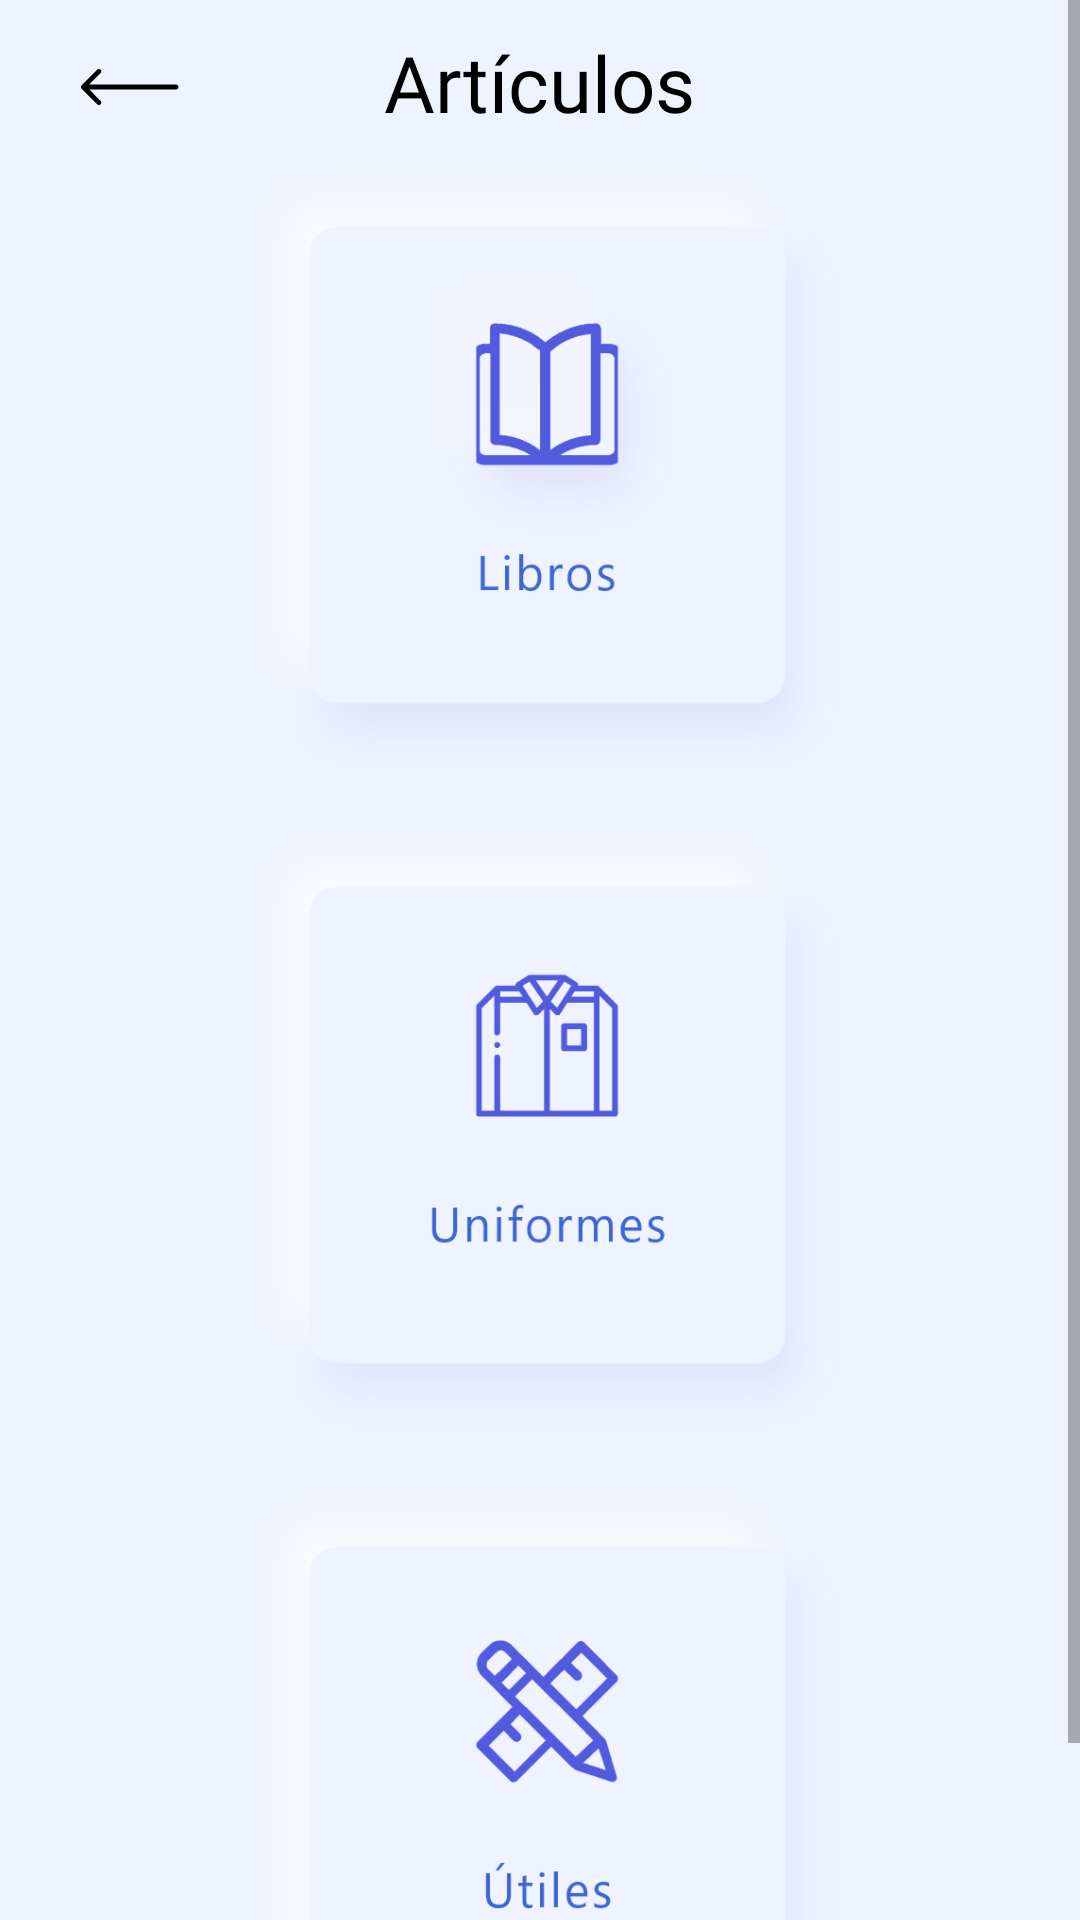

Icon bounding boxes for this 1080*1920 phone screenshot, format (x1, y1, x2, y2):
ionic arrow round back: (81, 69, 179, 105)
